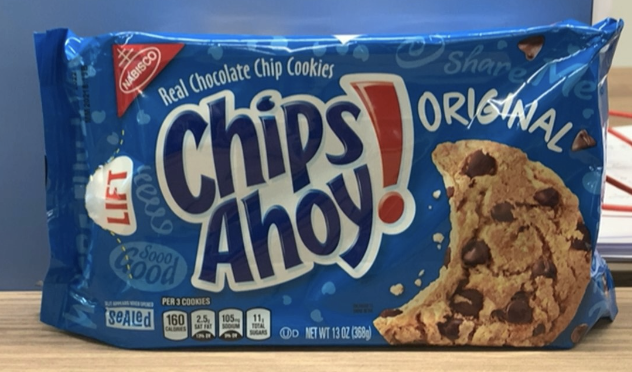cookies_300g-399g: (83, 52, 576, 342)
